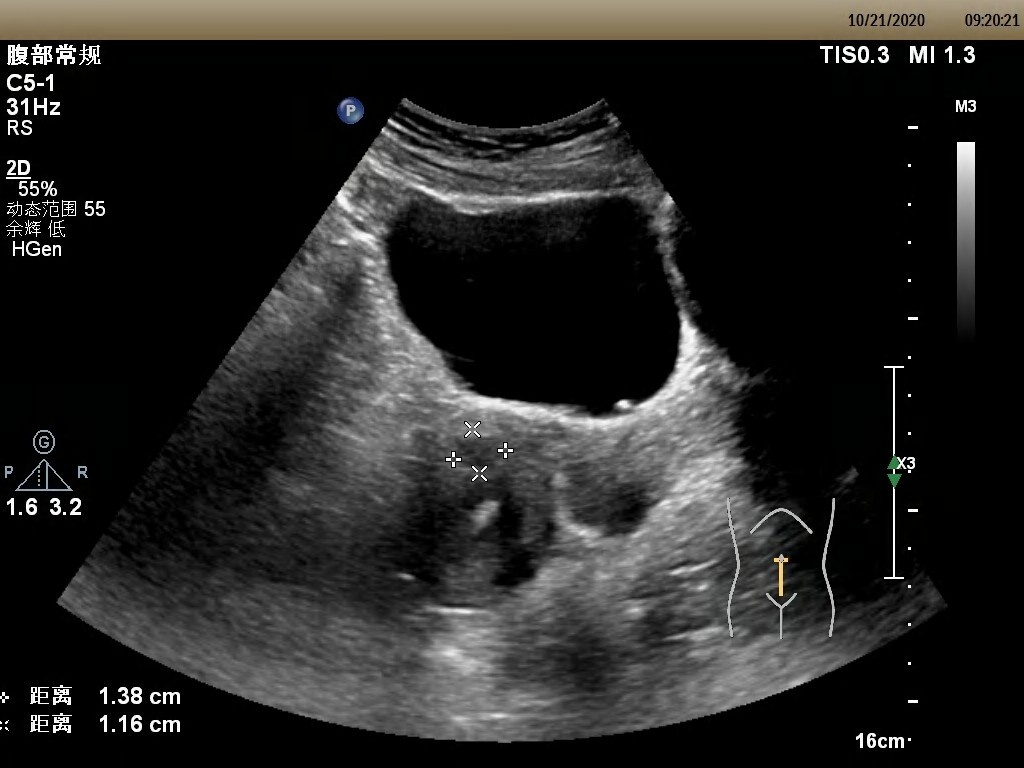肌瘤: (453, 429, 507, 473)
